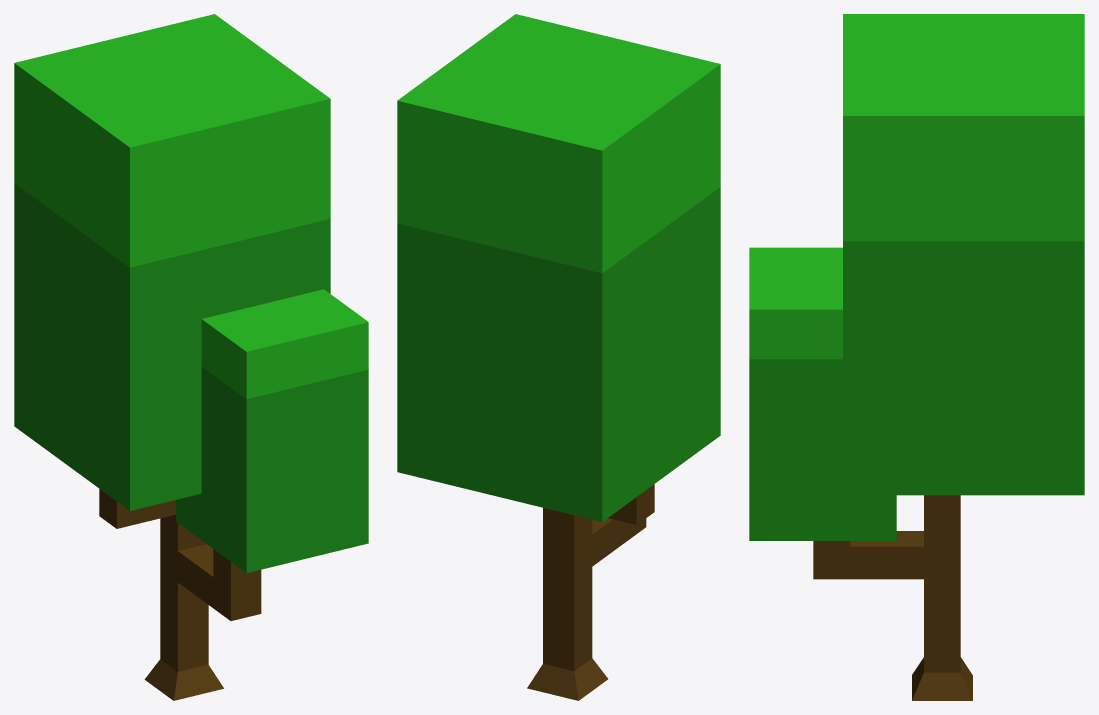
Rendered from forest2.fbx.
3 renders of one model, left to right at view 1: azimuth 30°, elevation 25°; view 2: azimuth 150°, elevation 25°; view 3: azimuth 270°, elevation 25°, orthographic. The views are drawn at different scales.
Parts seen in each view (by area): view 1: forest2; view 2: forest2; view 3: forest2.
Boxes of the visible parts, <box> form: forest2: <box>14,14,368,700</box>; forest2: <box>397,14,720,700</box>; forest2: <box>749,14,1084,700</box>.
Size of the model in its own units: 586 by 1664 by 813.
1 material, 1 textured.
